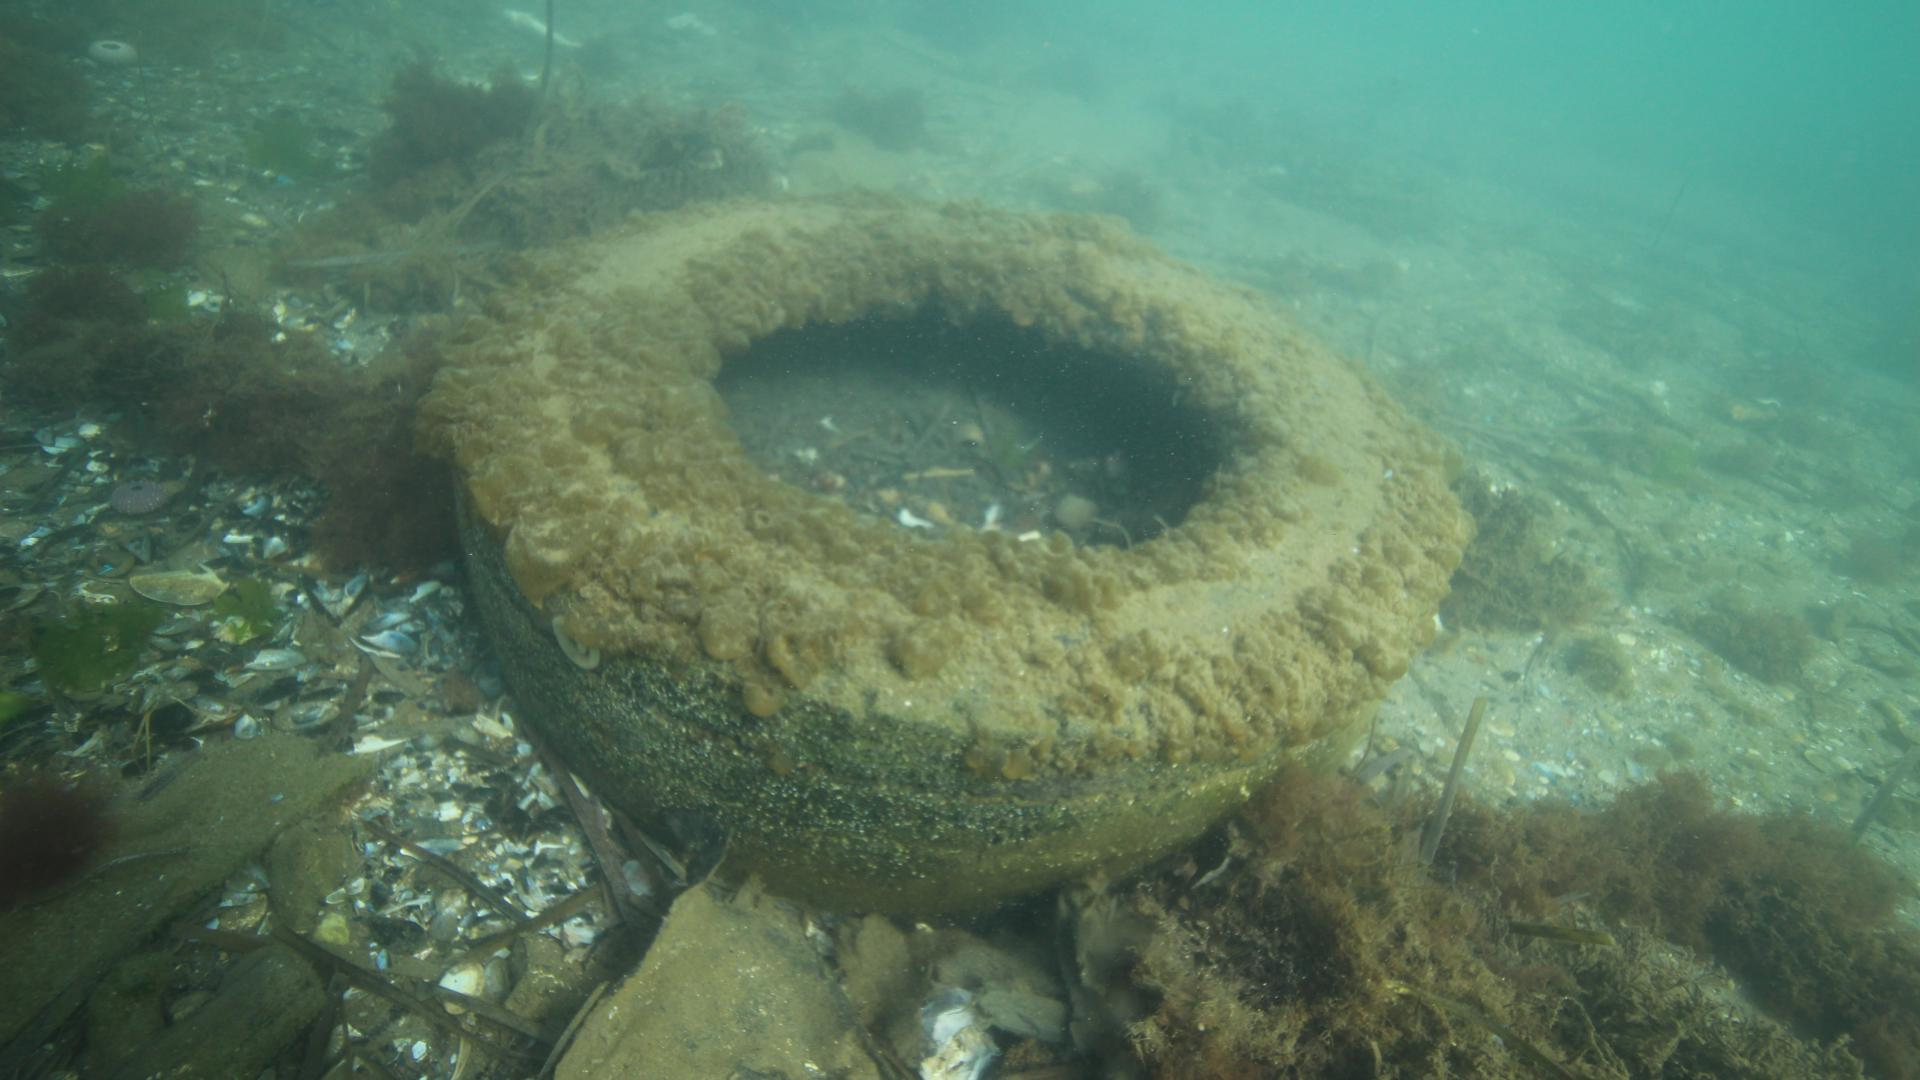tire: (465, 199, 1456, 916)
